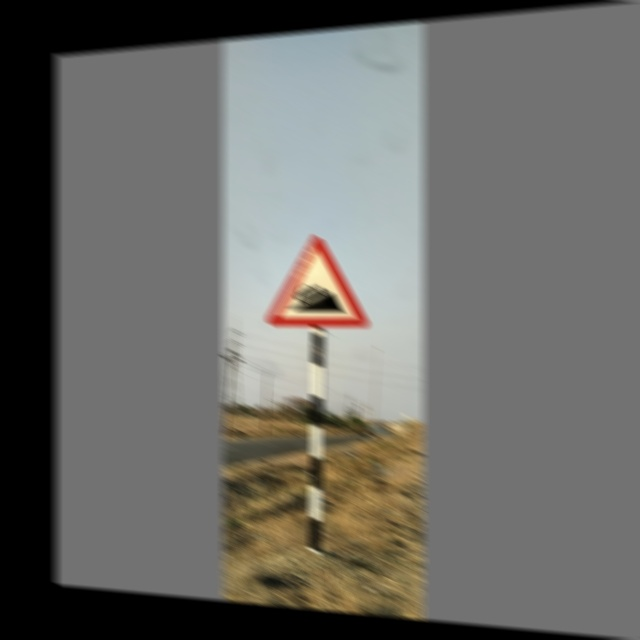Steep_Ascent: (270, 235, 369, 330)
